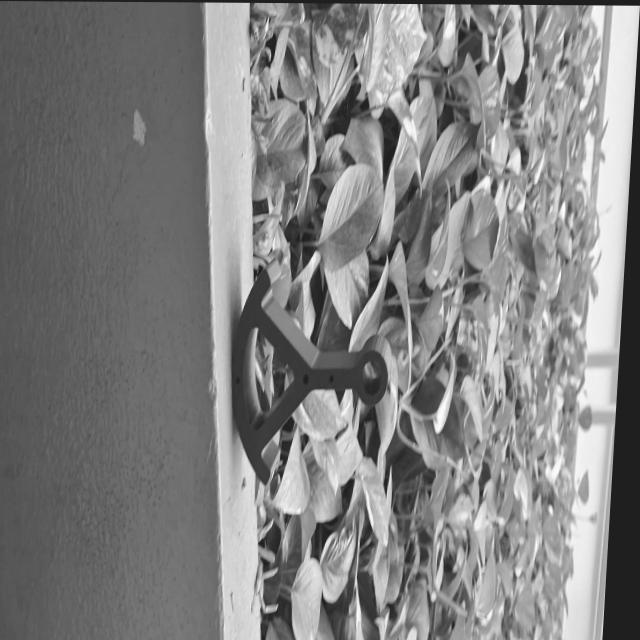haptic: (223, 253, 399, 489)
